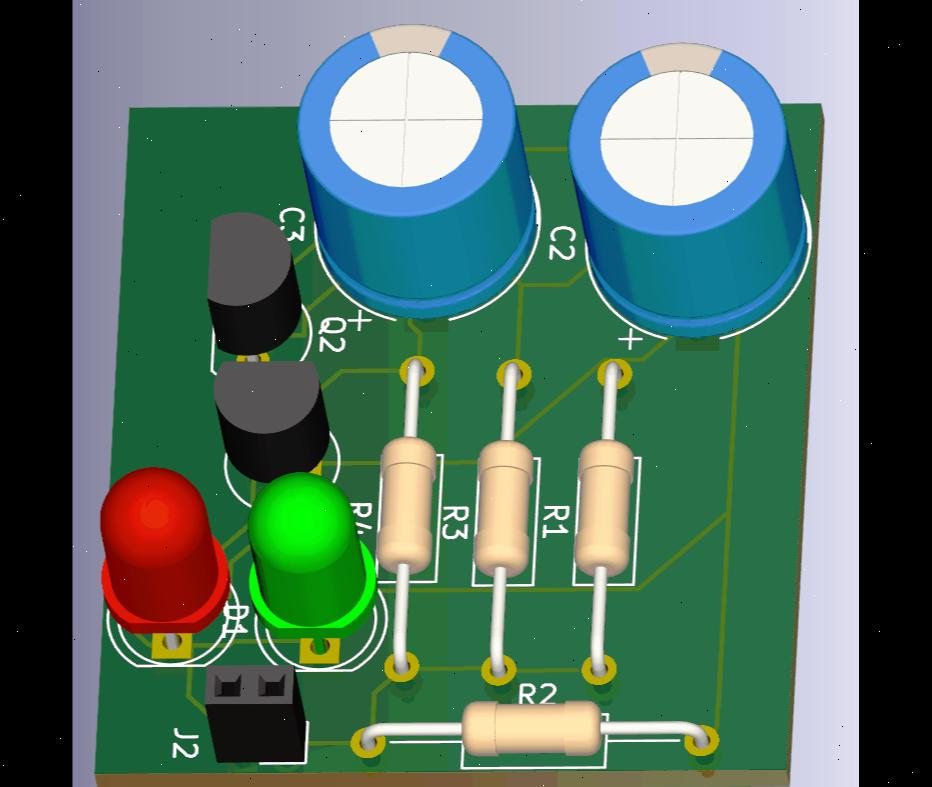capacitor: (566, 38, 810, 338), (298, 22, 538, 323)
green_led: (249, 471, 378, 640)
red_led: (94, 460, 230, 637)
resistor: (463, 692, 609, 770), (473, 440, 534, 577), (376, 440, 438, 574), (573, 442, 634, 578)
transistor: (206, 208, 304, 360), (214, 373, 330, 477)
